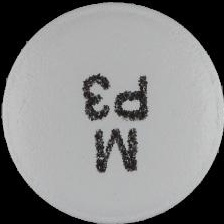0378-2003: (0, 0, 224, 224)
